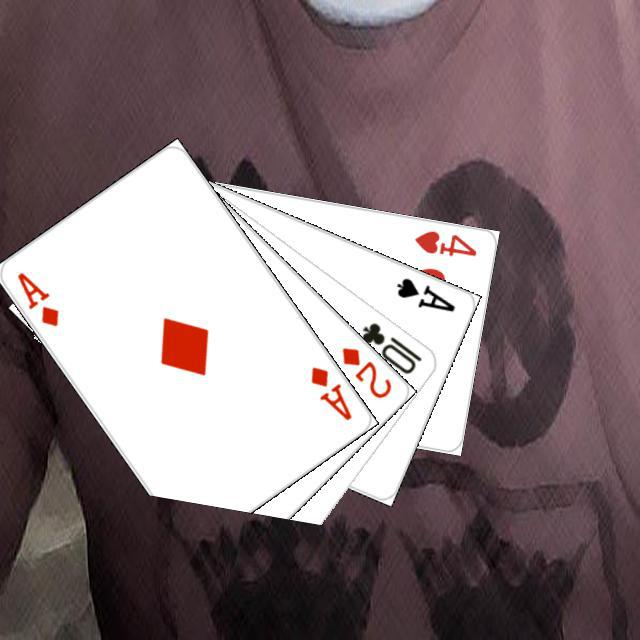10c: (357, 317, 424, 376)
2d: (337, 342, 394, 401)
4h: (409, 225, 479, 258)
Ad: (305, 361, 354, 423), (12, 267, 61, 328)
As: (391, 272, 457, 314)
